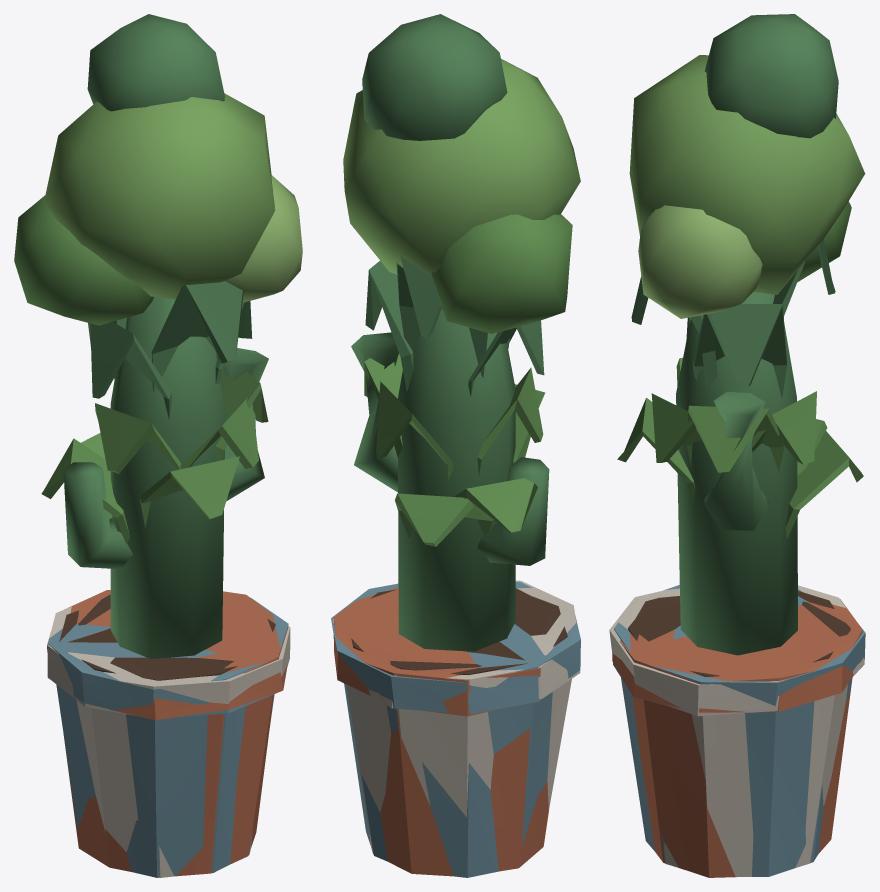
Rendered from plant.potted.glb.
3 views of the same model, side by side, from view 1: azimuth 30°, elevation 25°; view 2: azimuth 150°, elevation 25°; view 3: azimuth 270°, elevation 25° (orthographic). The views are drawn at different scales.
Parts seen in each view (by area): view 1: plant.potted.v2.mesh, plant.potted.v1.mesh, plant.potted.v0.mesh; view 2: plant.potted.v2.mesh, plant.potted.v1.mesh, plant.potted.v0.mesh; view 3: plant.potted.v2.mesh, plant.potted.v1.mesh, plant.potted.v0.mesh.
Part boxes in pixels (left/top/right/bottom): plant.potted.v2.mesh: left=14, top=14, right=302, bottom=877; plant.potted.v1.mesh: left=47, top=297, right=290, bottom=877; plant.potted.v0.mesh: left=41, top=281, right=288, bottom=876; plant.potted.v2.mesh: left=331, top=14, right=580, bottom=877; plant.potted.v1.mesh: left=332, top=309, right=580, bottom=853; plant.potted.v0.mesh: left=333, top=256, right=560, bottom=876; plant.potted.v2.mesh: left=613, top=14, right=865, bottom=876; plant.potted.v1.mesh: left=609, top=291, right=864, bottom=877; plant.potted.v0.mesh: left=612, top=239, right=863, bottom=877.
Bounding box in the file's own units: 0.3984 × 1.3 × 0.3657.
